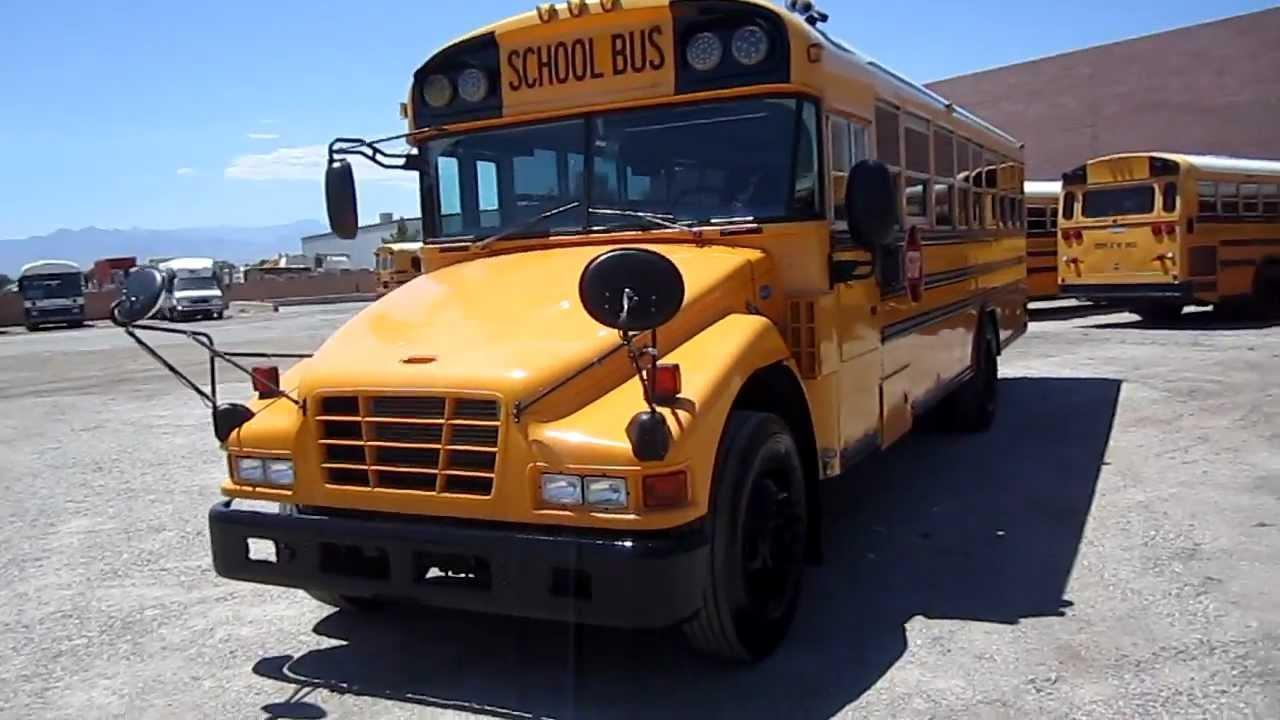Bus: (207, 0, 1050, 666), (497, 4, 671, 95)
